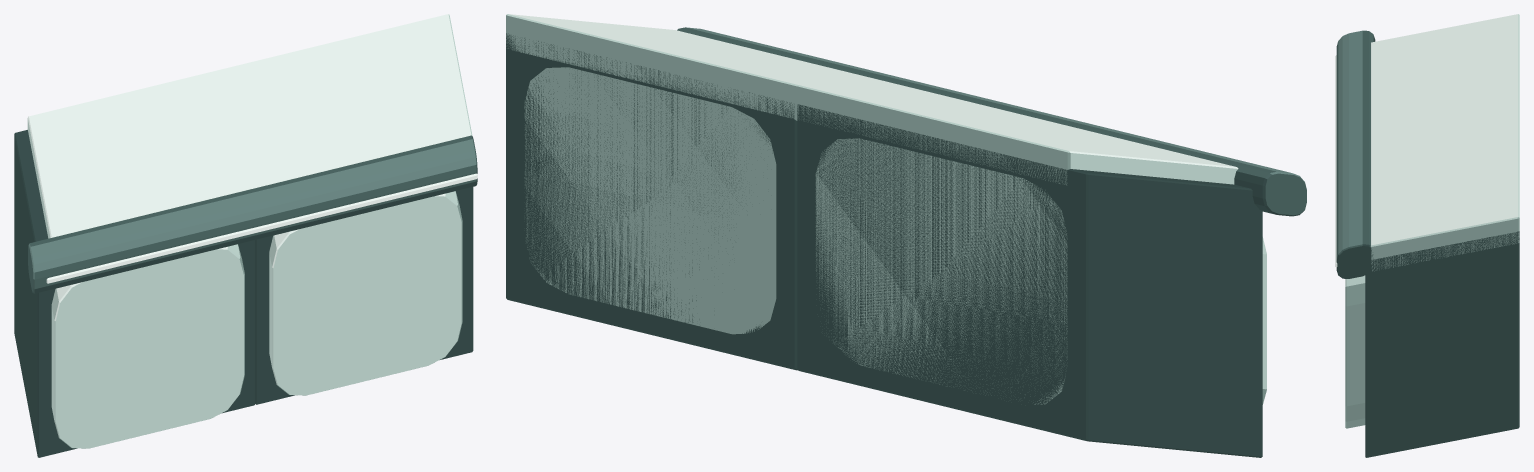
The model's file is Terrain_TopRun2L.gltf.
The picture shows the model from 3 angles, left to right: view 1: azimuth 30°, elevation 25°; view 2: azimuth 150°, elevation 25°; view 3: azimuth 270°, elevation 25°; orthographic projection. The views are drawn at different scales.
Visible parts, largest first — view 1: Terrain_TopRun2L_baked; view 2: Terrain_TopRun2L_baked; view 3: Terrain_TopRun2L_baked.
Part boxes in pixels (x1,y1,x2,y2): Terrain_TopRun2L_baked: (14, 14, 477, 457); Terrain_TopRun2L_baked: (506, 14, 1306, 457); Terrain_TopRun2L_baked: (1335, 14, 1519, 457).
Size of the model in its own units: 2.33 by 1.18 by 0.74.
